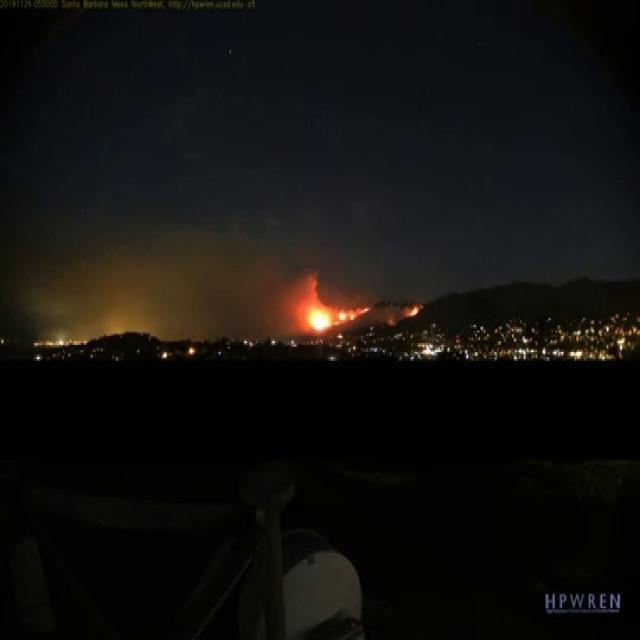Fire: (302, 278, 369, 332), (404, 302, 423, 322)
Smoke: (22, 222, 304, 336), (372, 300, 402, 327)
